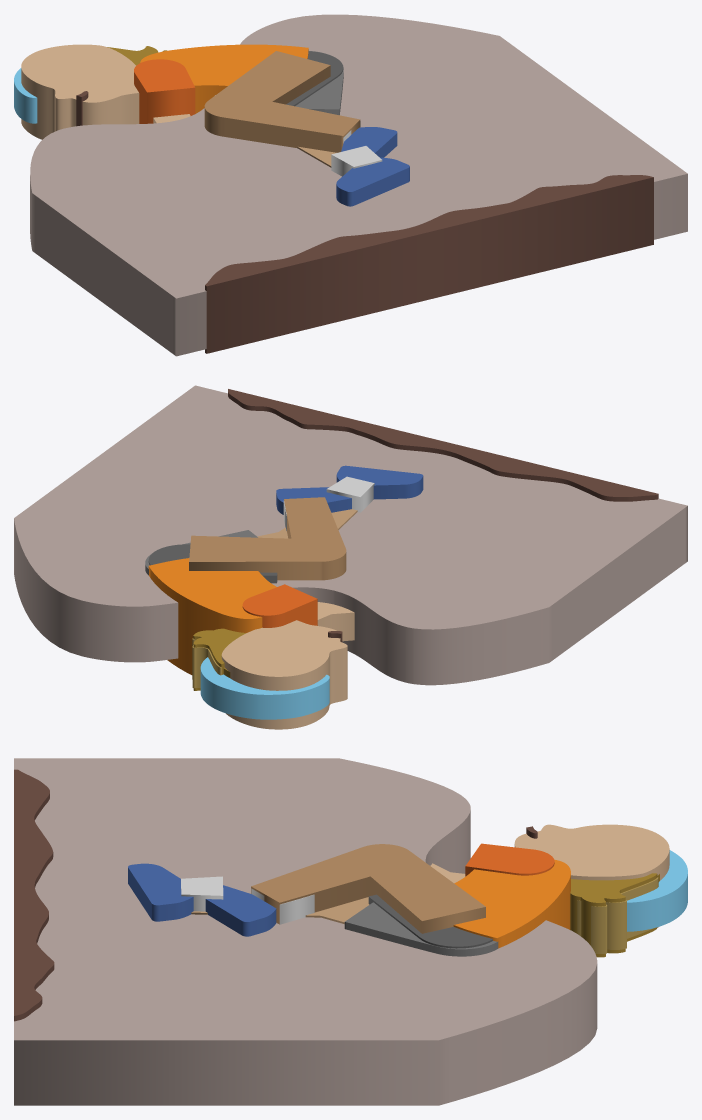
File: emoji_u1f6b5_1f3fc.glb
3 views of the same model, one above another, from view 1: azimuth 30°, elevation 25°; view 2: azimuth 150°, elevation 25°; view 3: azimuth 270°, elevation 25° (orthographic). The views are drawn at different scales.
Parts seen in each view (by area): view 1: emoji_u1f6b5_1f3fc; view 2: emoji_u1f6b5_1f3fc; view 3: emoji_u1f6b5_1f3fc.
Boxes of the visible parts, x1,y1,x2,y2 form: emoji_u1f6b5_1f3fc: (14,14,687,356); emoji_u1f6b5_1f3fc: (14,385,687,729); emoji_u1f6b5_1f3fc: (14,758,687,1105).
Size of the model in its own units: 0.0333 by 0.006 by 0.0336.
